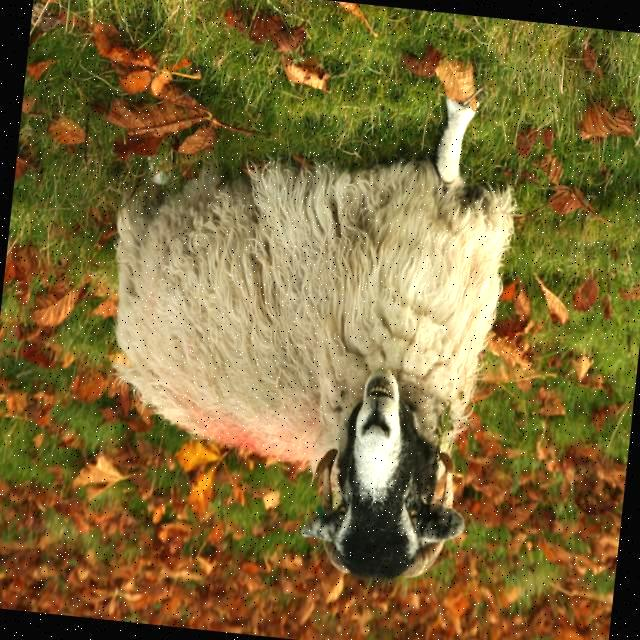sheep: (112, 100, 513, 581)
